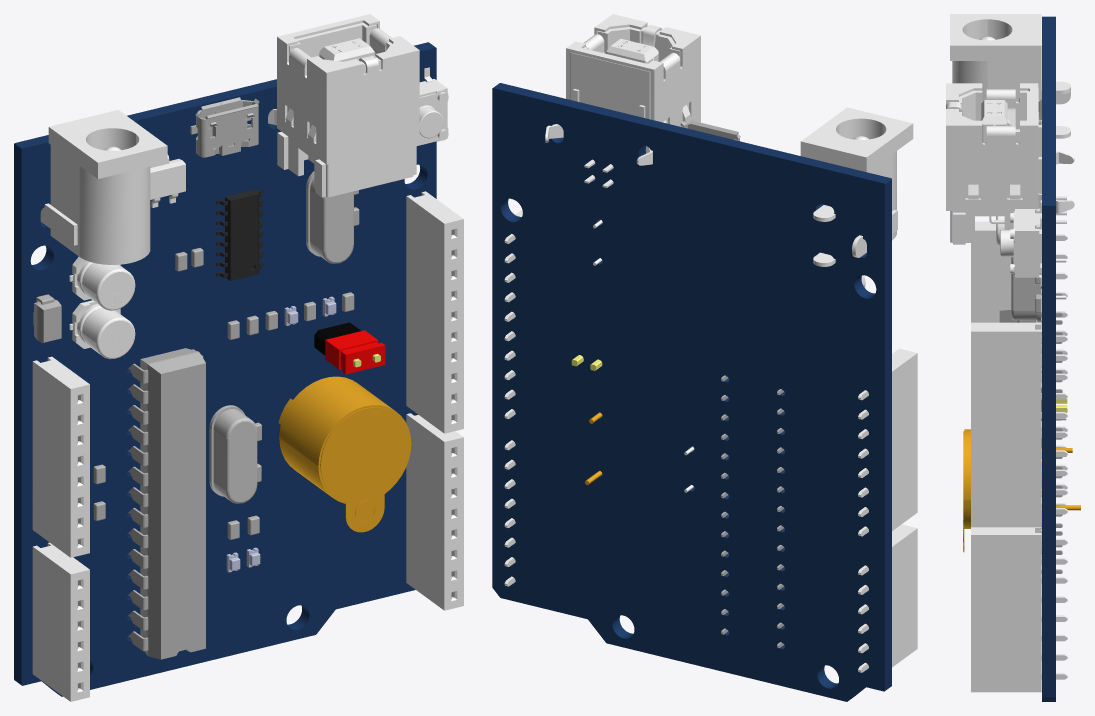
The model's file is UNO_PCB.glb.
3 renders of one model, left to right at view 1: azimuth 30°, elevation 25°; view 2: azimuth 150°, elevation 25°; view 3: azimuth 270°, elevation 25°, orthographic. The views are drawn at different scales.
Visible parts, largest first — view 1: Open CASCADE STEP translator 6.8 3.1.1, c-0292304-01-b-3d, SW3dPS-DIP28-300, 6-20V_DC, User_Library-Buzzer_WST-1203UX, C6, C7, C5, C4, User_Library-HC49S-1_Fillet002 (×2), capicitor_5x5.5x1.4 (×2), User_Library-SOIC-16-1 (+5 smaller); view 2: Open CASCADE STEP translator 6.8 3.1.1, c-0292304-01-b-3d, 6-20V_DC, C7, C4, SW3dPS-DIP28-300; view 3: C6, c-0292304-01-b-3d, C5, Open CASCADE STEP translator 6.8 3.1.1, 6-20V_DC, C7, 4301x20508x6, SW3dPS-DIP28-300, User_Library-HC49S-1_Fillet002, User_Library-Buzzer_WST-1203UX.
Boxes of the visible parts, box(x1,y1,x2,y2) form: Open CASCADE STEP translator 6.8 3.1.1: box(14, 42, 436, 696); c-0292304-01-b-3d: box(268, 14, 419, 197); SW3dPS-DIP28-300: box(128, 348, 205, 659); 6-20V_DC: box(40, 110, 167, 264); User_Library-Buzzer_WST-1203UX: box(278, 376, 411, 532); C6: box(406, 191, 463, 433); C7: box(32, 356, 89, 557); C5: box(406, 413, 463, 610); C4: box(32, 542, 89, 701); User_Library-HC49S-1_Fillet002 (×2): box(213, 178, 353, 503); capicitor_5x5.5x1.4 (×2): box(69, 261, 135, 359); User_Library-SOIC-16-1: box(216, 189, 263, 280); Open CASCADE STEP translator 6.8 3.1.1: box(492, 83, 891, 701); c-0292304-01-b-3d: box(545, 14, 700, 187); 6-20V_DC: box(800, 107, 913, 266); C7: box(892, 348, 917, 530); C4: box(892, 524, 917, 667); SW3dPS-DIP28-300: box(721, 375, 784, 648); C6: box(971, 322, 1041, 527); c-0292304-01-b-3d: box(946, 83, 1074, 244); C5: box(971, 527, 1041, 692); Open CASCADE STEP translator 6.8 3.1.1: box(1042, 16, 1055, 701); 6-20V_DC: box(950, 14, 1070, 138); C7: box(971, 221, 1041, 322); 4301x20508x6: box(1000, 200, 1041, 286); SW3dPS-DIP28-300: box(999, 287, 1062, 573); User_Library-HC49S-1_Fillet002: box(1011, 257, 1037, 320); User_Library-Buzzer_WST-1203UX: box(963, 429, 1080, 552).
Bounding box in the file's own units: 53.6 × 75.21 × 16.19.
